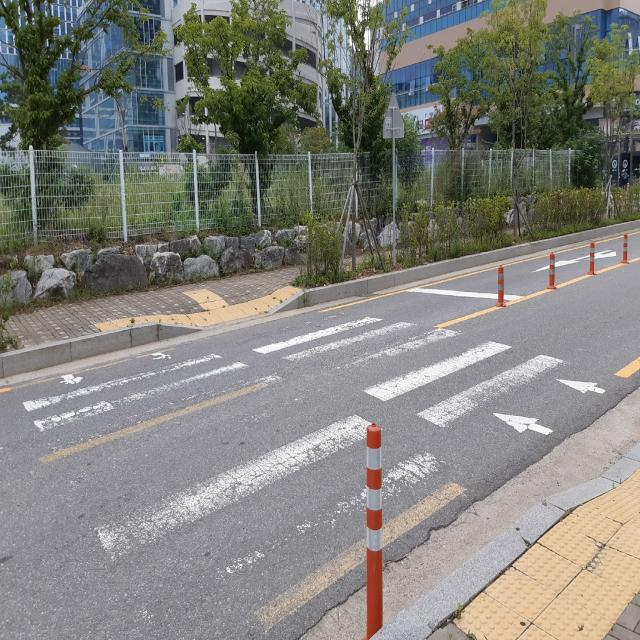횡단보도: (22, 318, 606, 630)
